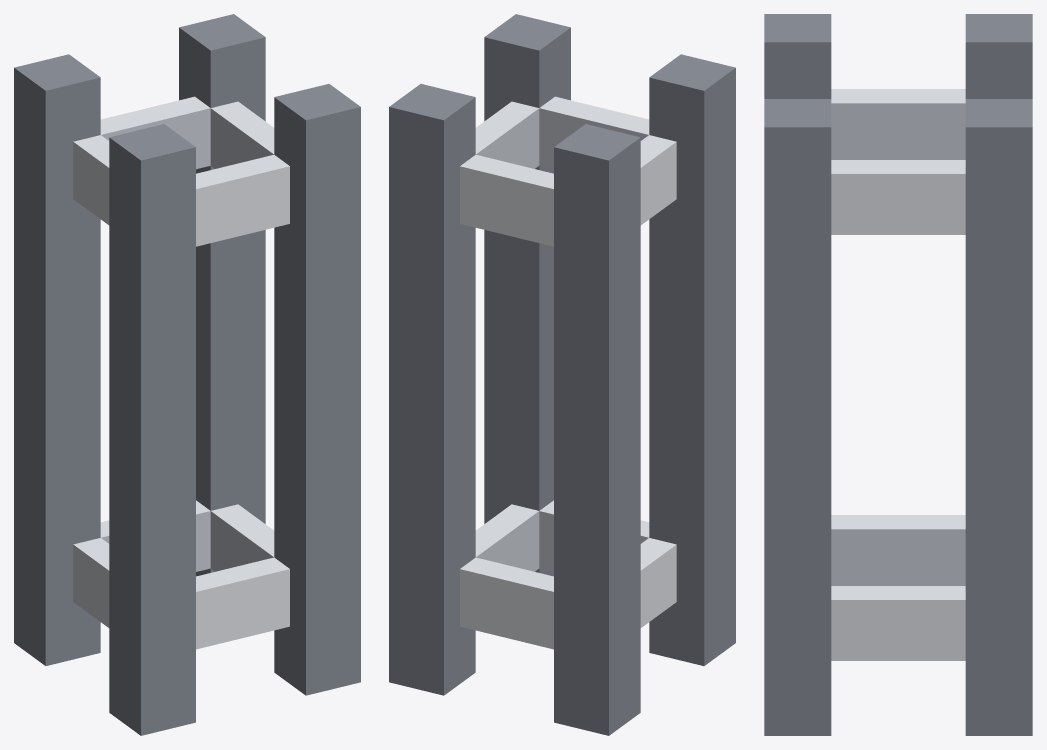
The model's file is monorail_trackSupport.glb.
The picture shows the model from 3 angles, left to right: view 1: azimuth 30°, elevation 25°; view 2: azimuth 150°, elevation 25°; view 3: azimuth 270°, elevation 25°; orthographic projection. The views are drawn at different scales.
Visible parts, largest first — view 1: monorail_trackSupport; view 2: monorail_trackSupport; view 3: monorail_trackSupport.
Part boxes in pixels (x1,y1,x2,y2): monorail_trackSupport: (14,14,360,735); monorail_trackSupport: (389,14,735,735); monorail_trackSupport: (764,14,1032,735).
Size of the model in its own units: 0.2 by 0.5 by 0.2.
1 material, 1 textured.
